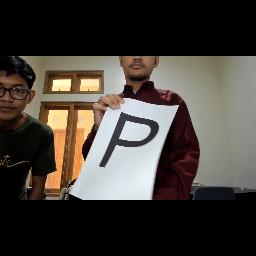p: (99, 111, 161, 175)
